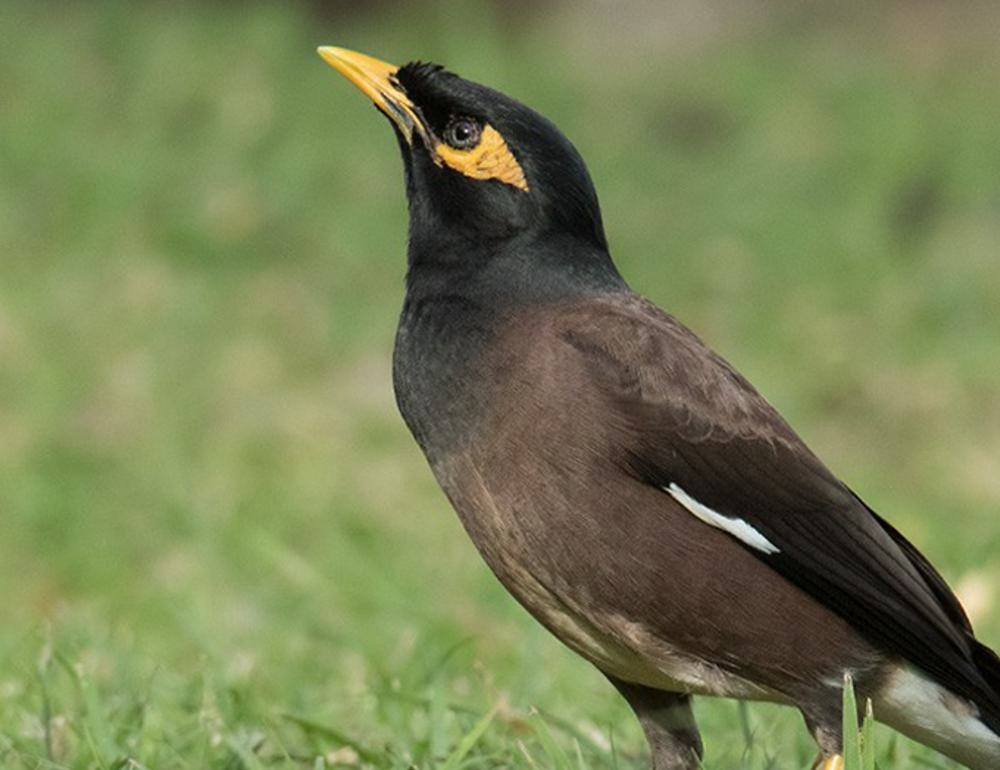myna: (299, 34, 884, 706)
